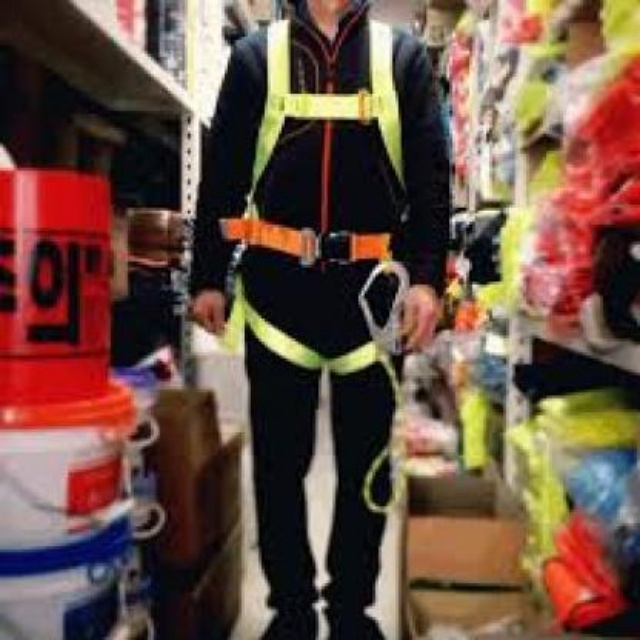Arnes_seguridad: (235, 18, 422, 375)
